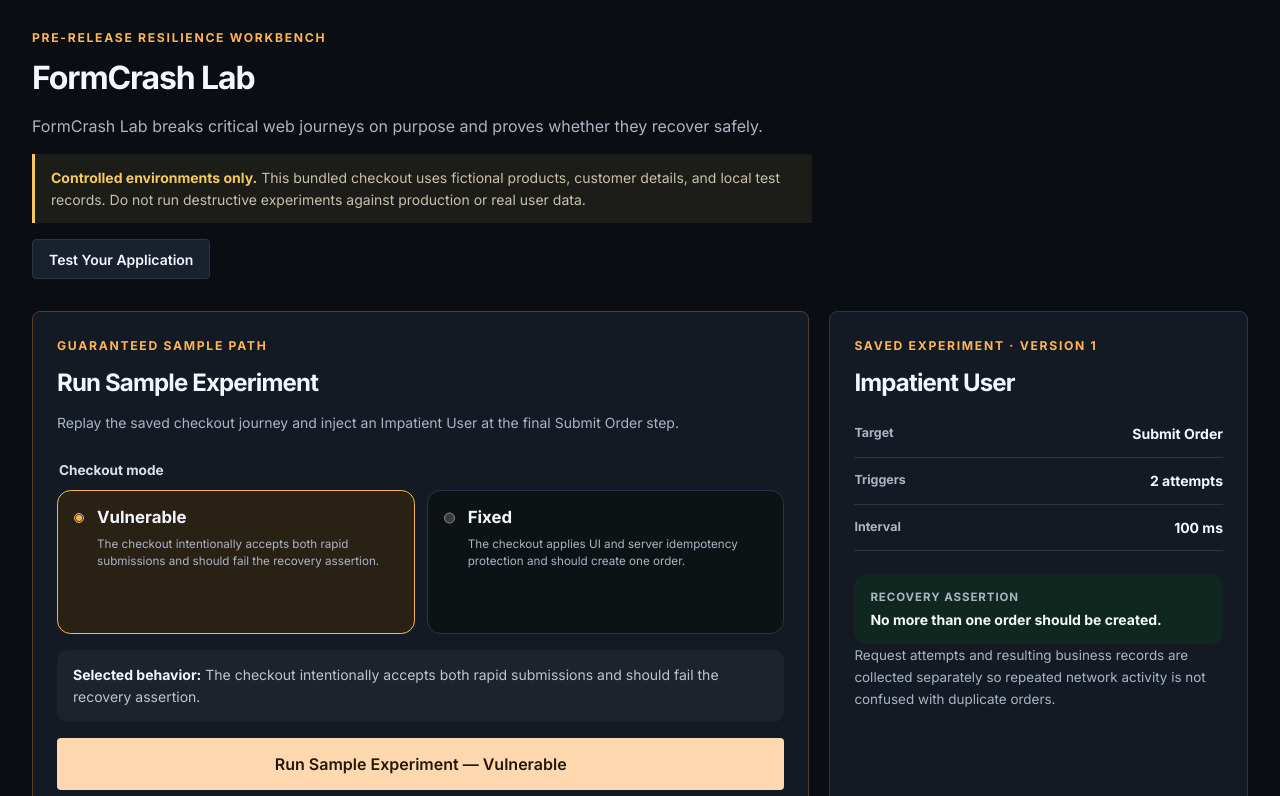
Scenario: SampleRunDashboard › explains the single-browser conflict without hiding persisted history
Click the button "Run Sample Experiment — Vulnerable": [421, 764] box [57,738,784,790]
(page scrolled)
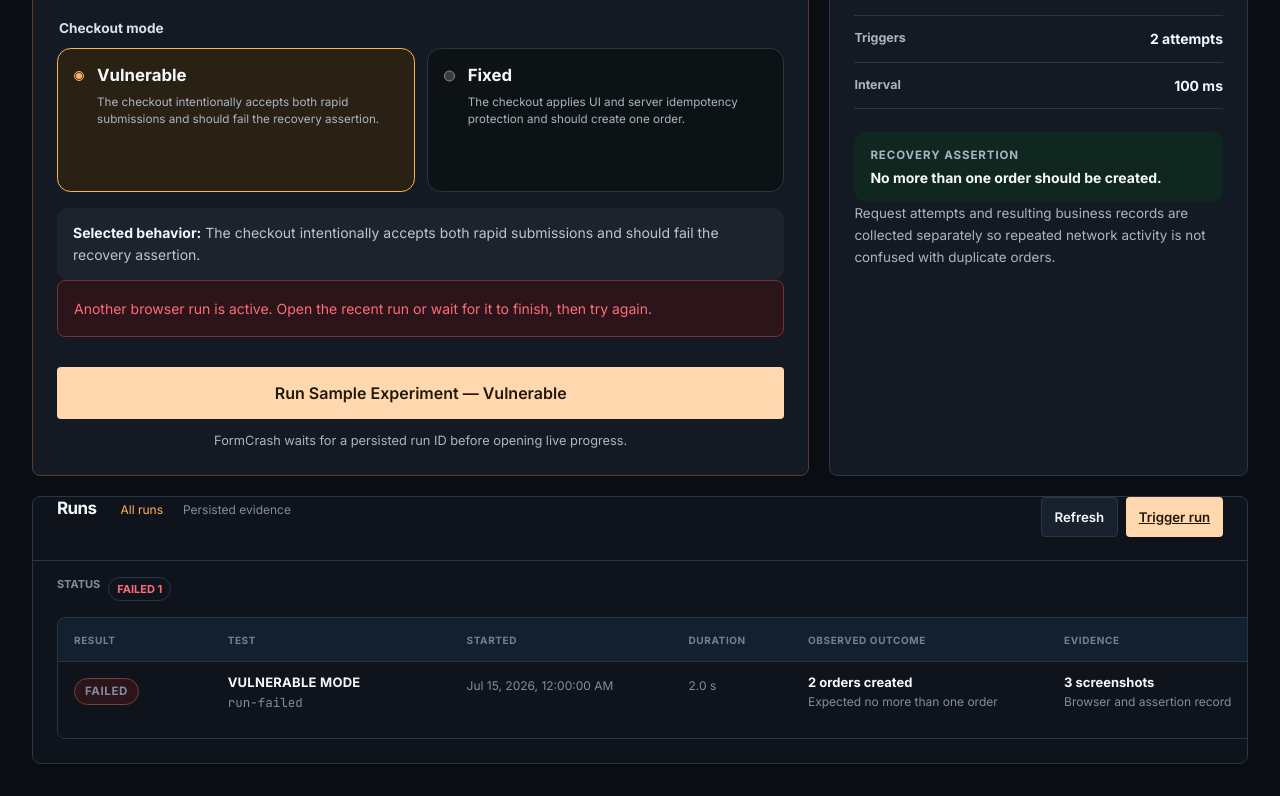
Result: the message shows "Another browser run is active" at [74,300,652,317]
